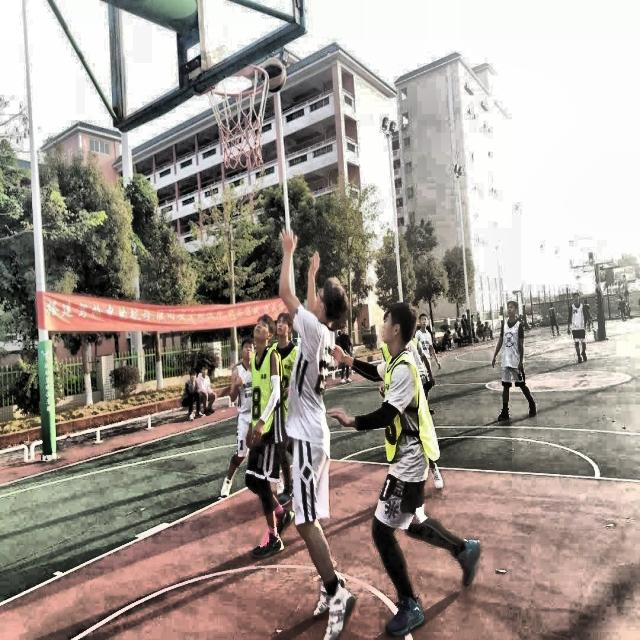rim: (204, 63, 269, 169)
